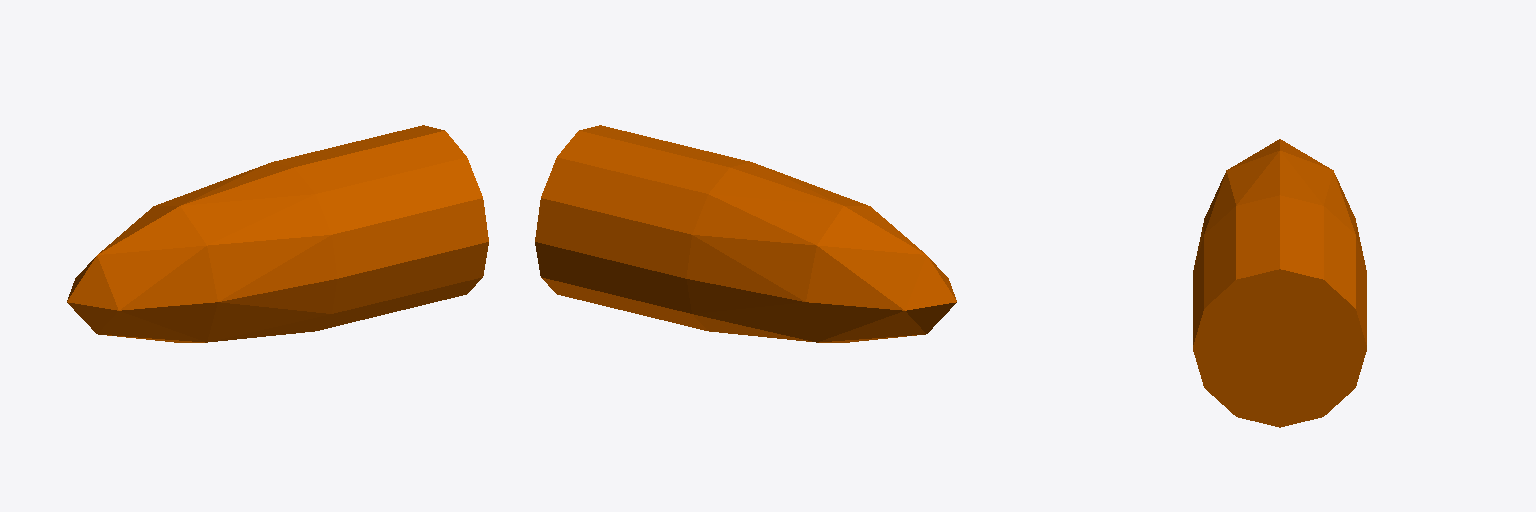
File: Bullet.obj
3 views of the same model, side by side, from view 1: azimuth 30°, elevation 25°; view 2: azimuth 150°, elevation 25°; view 3: azimuth 270°, elevation 25° (orthographic).
Visible parts, largest first — view 1: the_node.005_tri_240_geometry; view 2: the_node.005_tri_240_geometry; view 3: the_node.005_tri_240_geometry.
Boxes of the visible parts, box(x1,y1,x2,y2) form: the_node.005_tri_240_geometry: box(67, 125, 488, 342); the_node.005_tri_240_geometry: box(535, 125, 956, 342); the_node.005_tri_240_geometry: box(1193, 139, 1366, 427).
Size of the model in its own units: 0.03 by 0.012 by 0.012.